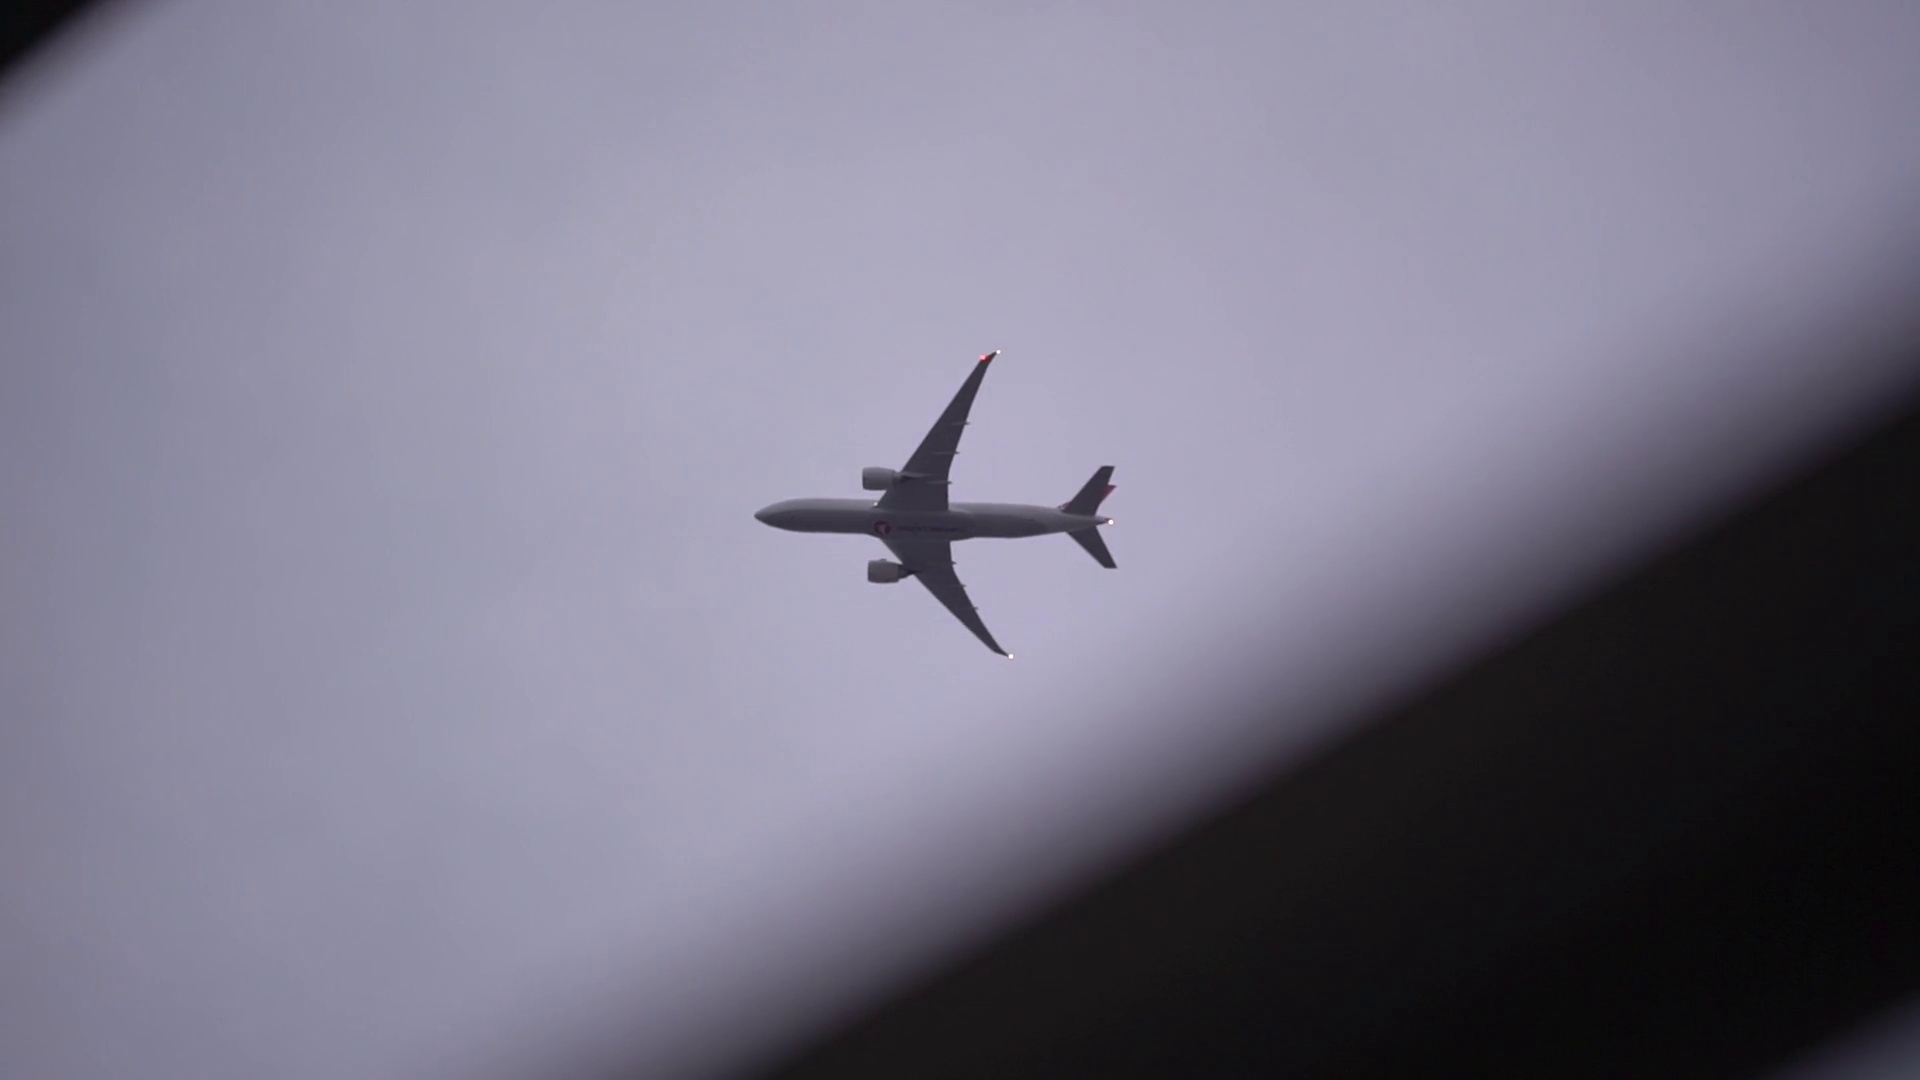plane: (752, 348, 1122, 658)
